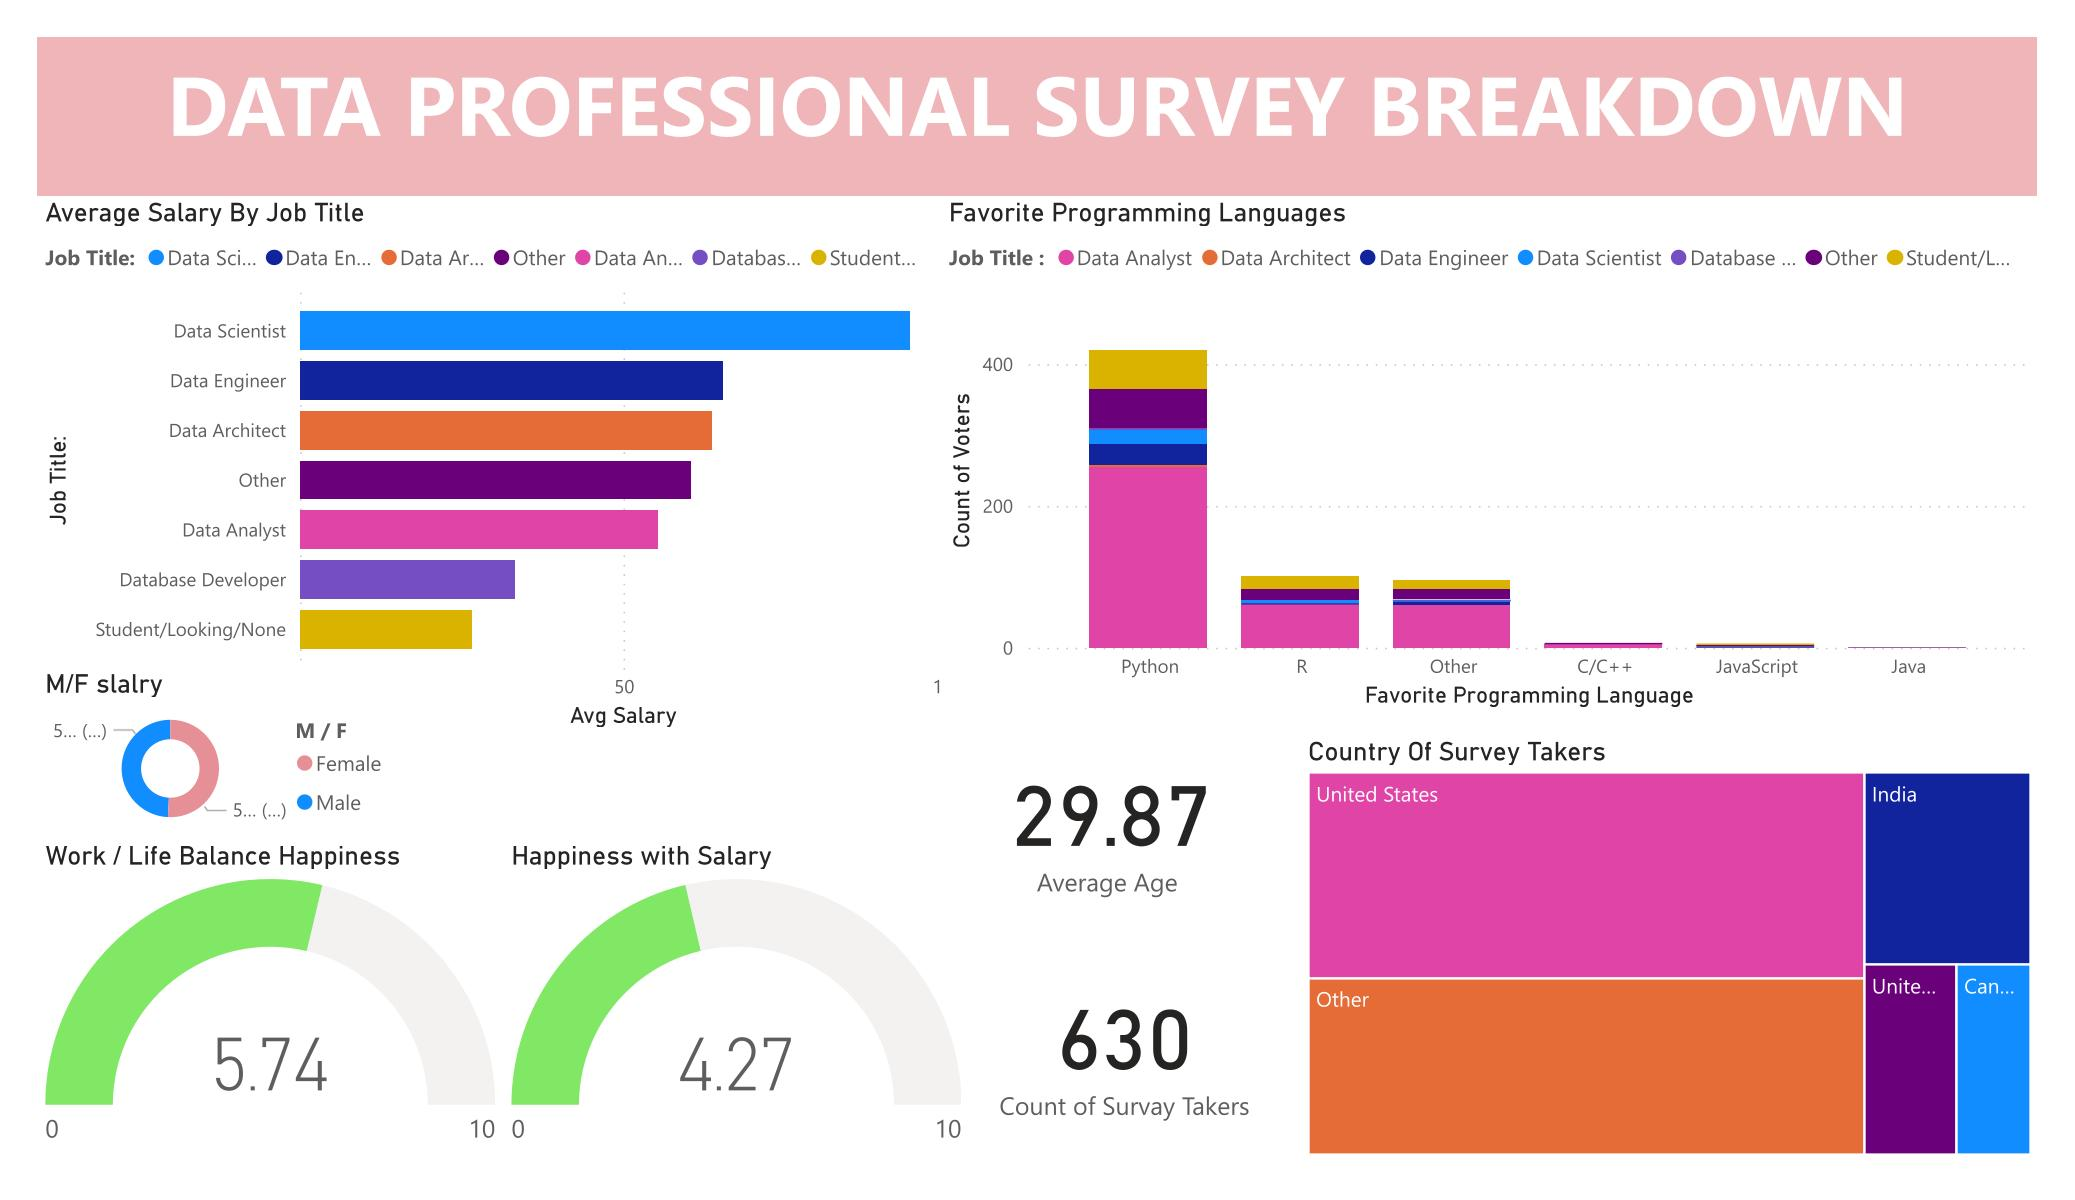

What the dashboard file says about the page in this screenshot:
{"tool":"powerbi","page":{"name":"Page 1","canvas":[1280,720],"ordinal":0},"visuals":[{"type":"textbox","box":[0,0,1280,101.7],"z":0},{"type":"card","fields":{"Values":["CountNonNull(Data Professional Survey.Unique ID)"]},"box":[596.7,570,198.3,150],"z":1000},{"type":"card","fields":{"Values":["Avg(Data Professional Survey.Q10 - Current Age)"]},"box":[578.3,433.3,216.7,136.7],"z":2000},{"type":"barChart","title":"Average Salary By Job Title","fields":{"Category":["Data Professional Survey.Q1 - Which Title Best Fits your Current Role?.1"],"Y":["Avg(Data Professional Survey.Avg Salary)"],"Series":["Data Professional Survey.Q1 - Which Title Best Fits your Current Role?.1"]},"box":[0,101.7,596.7,345],"z":3000},{"type":"columnChart","title":"Favorite Programming Languages","fields":{"Category":["Data Professional Survey.Q5 - Favorite Programming Language.1"],"Y":["CountNonNull(Data Professional Survey.Unique ID)"],"Series":["Data Professional Survey.Q1 - Which Title Best Fits your Current Role?.1"]},"box":[578.3,101.7,701.7,331.7],"z":4000},{"type":"treemap","title":"Country Of Survey Takers","fields":{"Group":["Data Professional Survey.Q11 - Which Country do you live in?.1"],"Values":["CountNonNull(Data Professional Survey.Q11 - Which Country do you live in?.1)"]},"box":[808.3,446.7,471.7,273.3],"z":5000},{"type":"gauge","title":"Work / Life Balance Happiness","fields":{"Y":["Avg(Data Professional Survey.Q6 - How Happy are you in your Current Position with the following? (Work/Life Balance))"],"MinValue":["Min(Data Professional Survey.Q6 - How Happy are you in your Current Position with the following? (Work/Life Balance))"],"MaxValue":["Max(Data Professional Survey.Q6 - How Happy are you in your Current Position with the following? (Work/Life Balance))1"]},"box":[0,513.3,298.3,206.7],"z":5001},{"type":"gauge","title":"Happiness with Salary","fields":{"Y":["Avg(Data Professional Survey.Q6 - How Happy are you in your Current Position with the following? (Salary))"],"MinValue":["Min(Data Professional Survey.Q6 - How Happy are you in your Current Position with the following? (Salary))"],"MaxValue":["Max(Data Professional Survey.Q6 - How Happy are you in your Current Position with the following? (Salary))"]},"box":[298.3,513.3,298.3,206.7],"z":5002},{"type":"donutChart","title":"M/F slalry","fields":{"Category":["Data Professional Survey.Q9 - Male/Female?"],"Y":["Avg(Data Professional Survey.Avg Salary)"]},"box":[0,403.3,235,110],"z":5003}]}

Visuals, with their boxes in screenshot pixels (x1, y1, x2, y2):
textbox: BBox(38, 38, 2038, 196)
card - CountNonNull(Data Professional Survey.Unique ID): BBox(970, 928, 1280, 1162)
card - Avg(Data Professional Survey.Q10 - Current Age): BBox(941, 715, 1280, 928)
"Average Salary By Job Title" barChart: BBox(38, 196, 970, 735)
"Favorite Programming Languages" columnChart: BBox(941, 196, 2038, 715)
"Country Of Survey Takers" treemap: BBox(1300, 735, 2038, 1162)
"Work / Life Balance Happiness" gauge: BBox(38, 840, 504, 1162)
"Happiness with Salary" gauge: BBox(504, 840, 970, 1162)
"M/F slalry" donutChart: BBox(38, 668, 405, 840)
